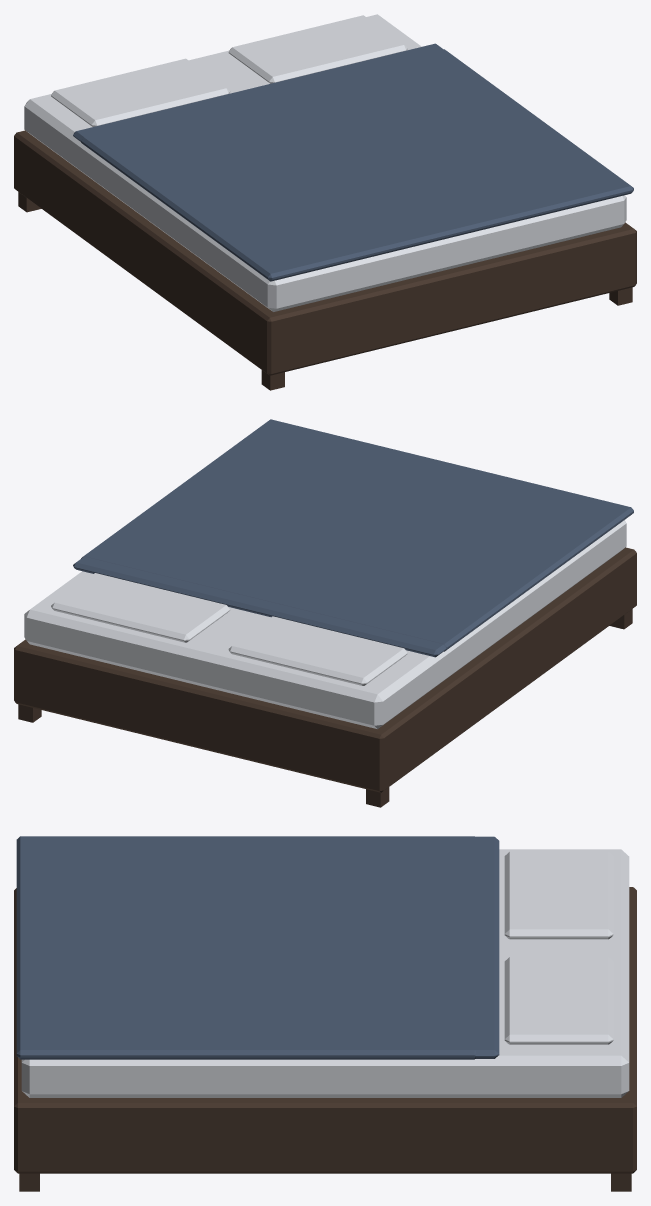
Rendered from bed.glb.
The picture shows the model from 3 angles, top to bottom: view 1: azimuth 30°, elevation 25°; view 2: azimuth 150°, elevation 25°; view 3: azimuth 270°, elevation 25°; orthographic projection. The views are drawn at different scales.
Parts seen in each view (by area): view 1: bed; view 2: bed; view 3: bed.
Boxes of the visible parts, bbox=[...] form: bed: bbox=[14, 14, 636, 390]; bed: bbox=[14, 419, 636, 807]; bed: bbox=[14, 836, 636, 1191].
Size of the model in its own units: 2 by 0.6 by 2.4.
